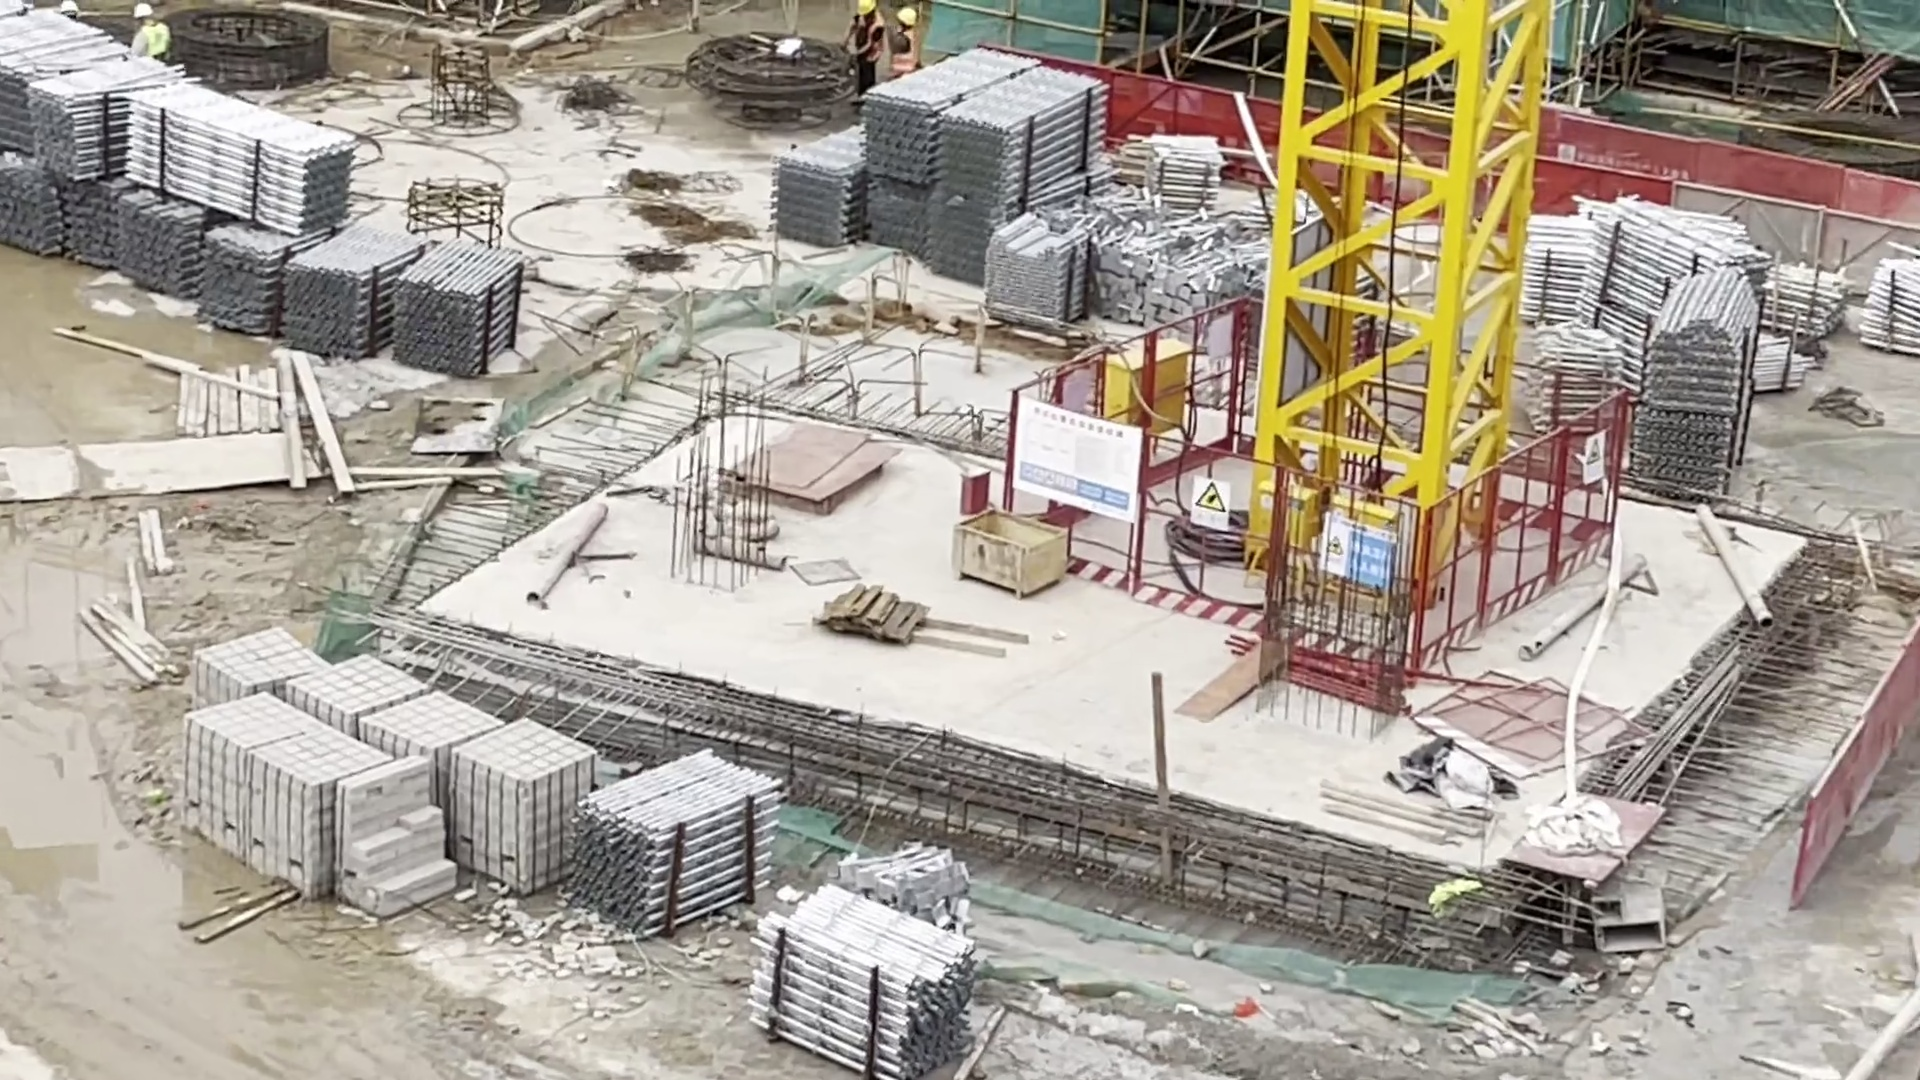brick: (145, 612, 600, 927)
ebox: (1237, 465, 1403, 609), (1084, 327, 1206, 457)
fence: (1107, 55, 1920, 252), (1003, 389, 1421, 700), (1404, 404, 1638, 680), (1003, 304, 1272, 520), (1779, 616, 1920, 957)
helmet: (896, 7, 920, 30), (853, 1, 879, 18), (132, 3, 155, 20), (57, 1, 81, 16)
hopper: (938, 489, 1079, 609)
person: (883, 1, 935, 92), (839, 1, 885, 97), (125, 1, 188, 70)
scaffold: (1, 4, 549, 399), (771, 49, 1267, 338), (1521, 192, 1920, 493), (745, 884, 1008, 1080), (568, 739, 769, 951)
slogan: (1002, 389, 1160, 535), (1307, 508, 1407, 609), (1572, 432, 1635, 515), (1183, 466, 1233, 539)
vest: (840, 22, 881, 78), (885, 23, 922, 76), (130, 26, 181, 62)
